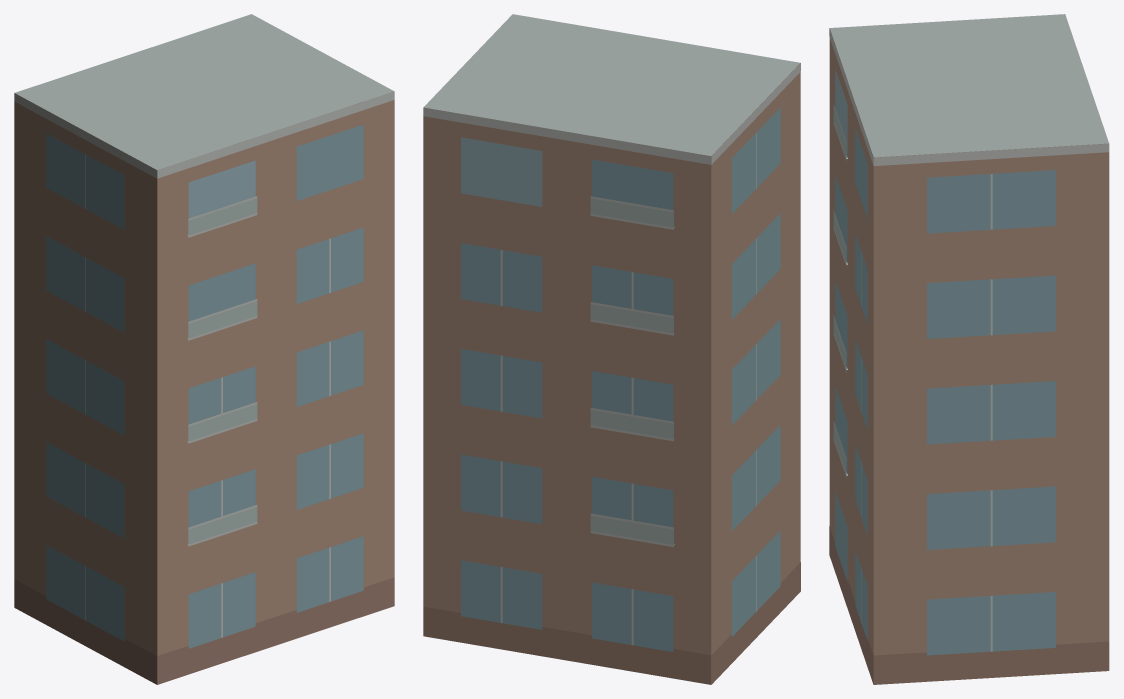
The model's file is survey-upis-32720393.glb.
3 views of the same model, side by side, from view 1: azimuth 30°, elevation 25°; view 2: azimuth 150°, elevation 25°; view 3: azimuth 270°, elevation 25° (orthographic). The views are drawn at different scales.
Visible parts, largest first — view 1: survey-upis-32720393.tmp; view 2: survey-upis-32720393.tmp; view 3: survey-upis-32720393.tmp.
Part boxes in pixels (x1=…): survey-upis-32720393.tmp: x1=14, y1=14, x2=394, y2=684; survey-upis-32720393.tmp: x1=423, y1=14, x2=800, y2=684; survey-upis-32720393.tmp: x1=829, y1=14, x2=1109, y2=684.
Bounding box in the file's own units: 8.61 × 14.75 × 7.1.
